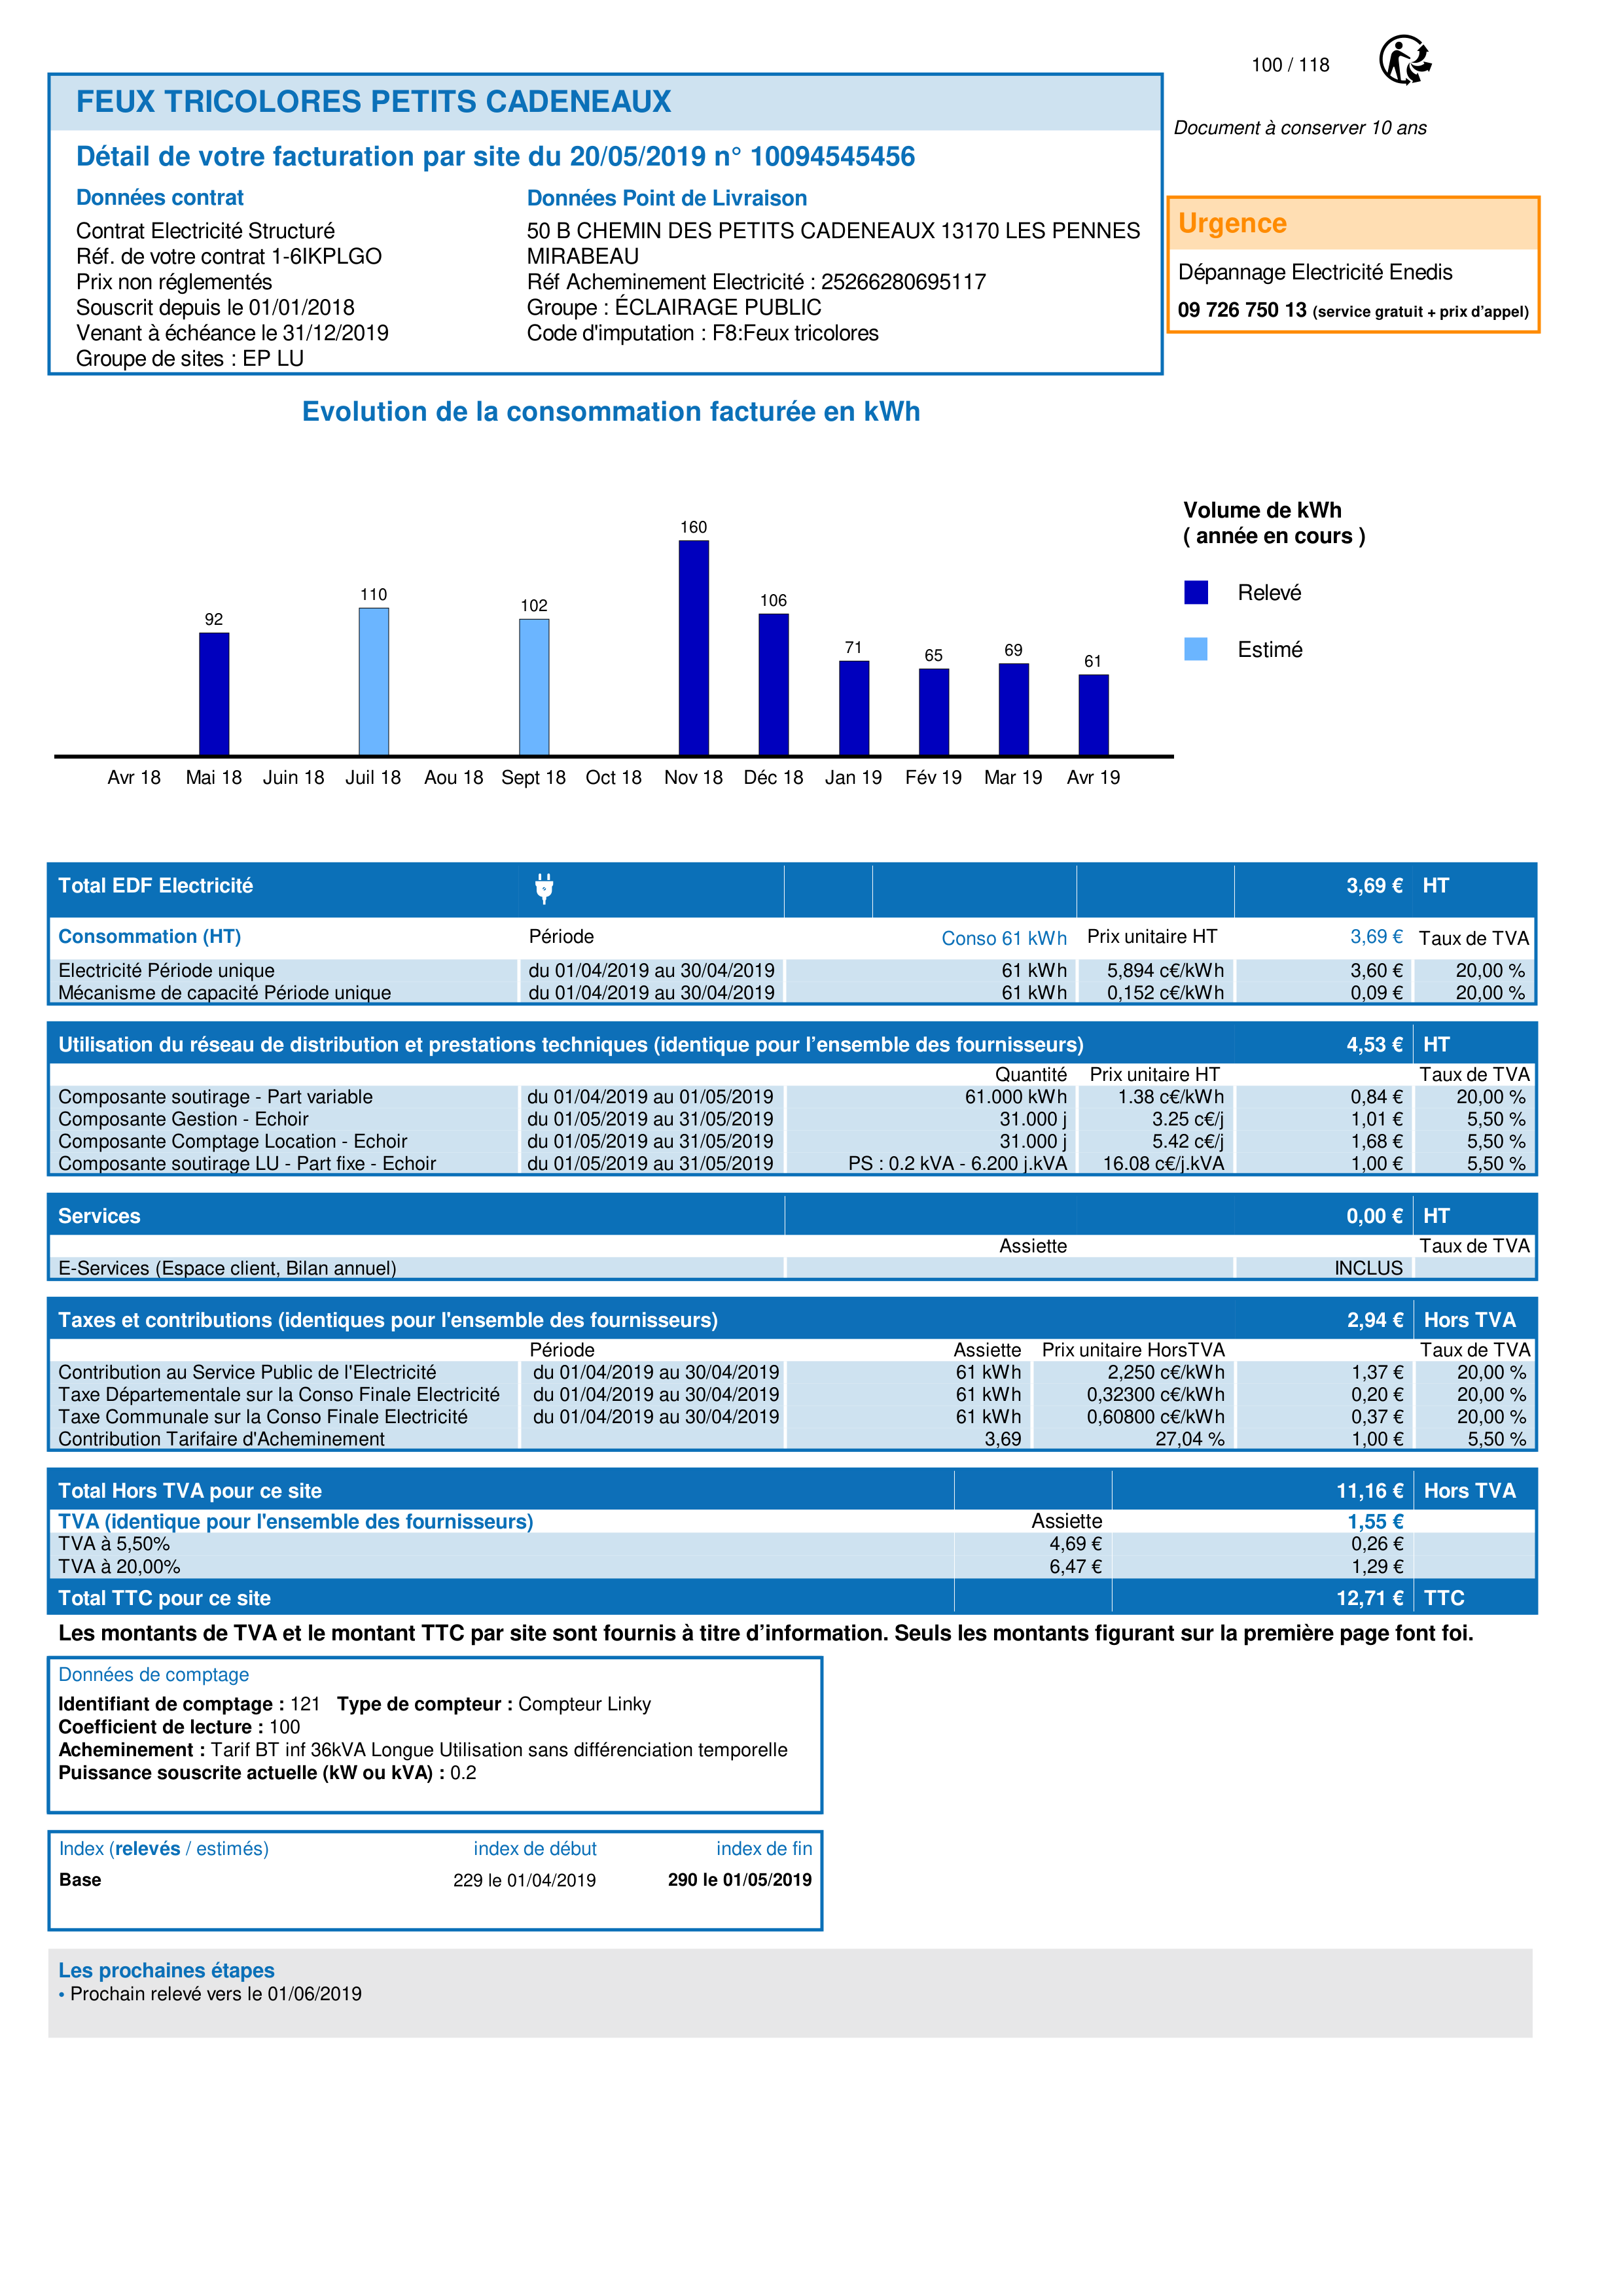area: (50, 1831, 823, 1933)
type_indicator: (46, 1832, 281, 1866)
